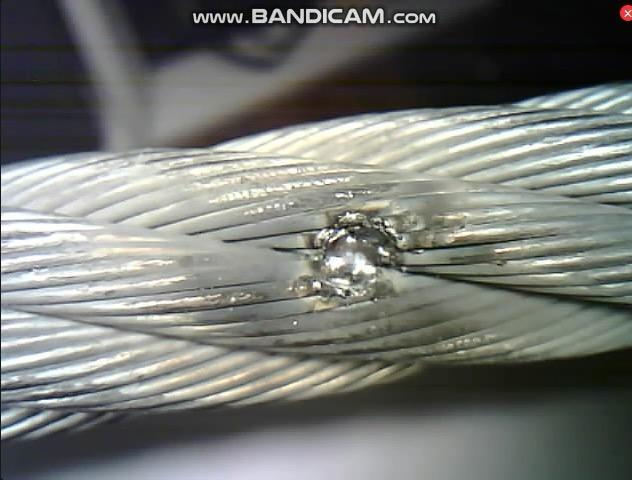thunderbolt: (280, 194, 446, 314)
